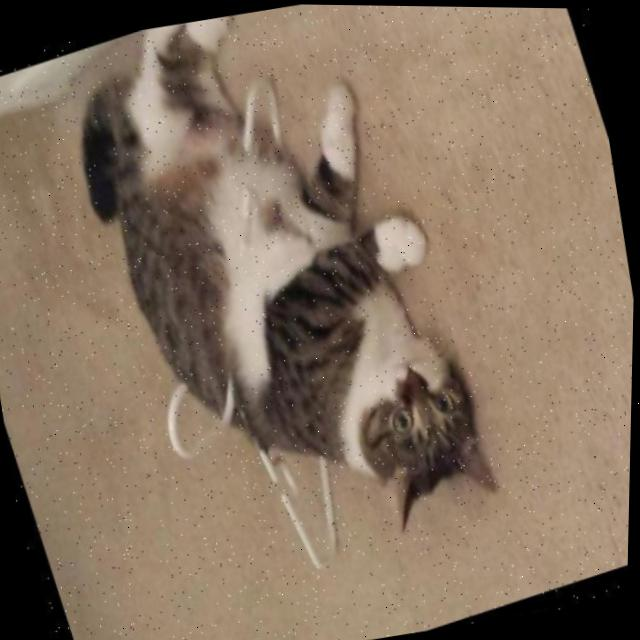Cats: (40, 1, 533, 628)
